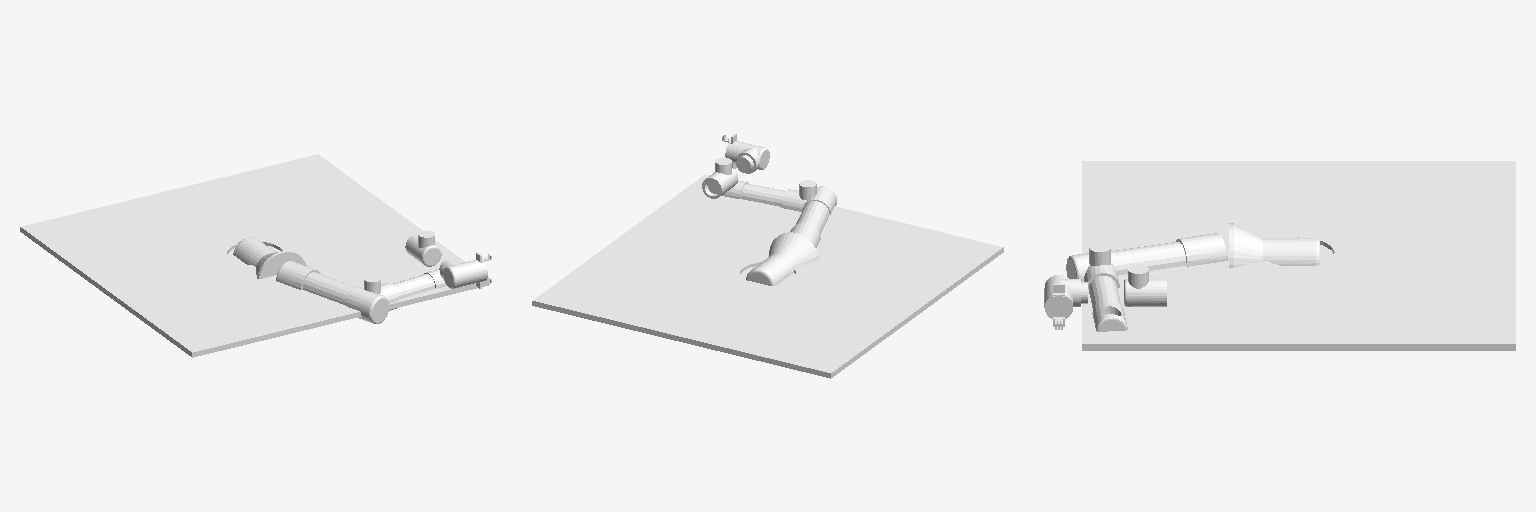
URDF robot description (myarm):
<robot
  name="myarm">
  <link
    name="base_link">
    <inertial>
      <origin
        xyz="-3.511E-17 -2.0937E-16 0.024867"
        rpy="0 0 0" />
      <mass
        value="444.11" />
      <inertia
        ixx="337.5"
        ixy="3.6082E-14"
        ixz="7.5848E-18"
        iyy="337.5"
        iyz="7.0622E-16"
        izz="674.82" />
    </inertial>
    <visual>
      <origin
        xyz="0 0 0"
        rpy="0 0 0" />
      <geometry>
        <mesh
          filename="package://marm_description/meshes/base_link.STL" />
      </geometry>
      <material
        name="">
        <color
          rgba="1 1 1 1" />
      </material>
    </visual>
    <collision>
      <origin
        xyz="0 0 0"
        rpy="0 0 0" />
      <geometry>
        <mesh
          filename="package://marm_description/meshes/base_link.STL" />
      </geometry>
    </collision>
  </link>
  <link
    name="link1">
    <inertial>
      <origin
        xyz="3.491E-07 0.0028335 0.01492"
        rpy="0 0 0" />
      <mass
        value="57.966" />
      <inertia
        ixx="2.5483"
        ixy="9.0628E-07"
        ixz="-1.5304E-06"
        iyy="2.5639"
        iyz="-0.04354"
        izz="1.0444" />
    </inertial>
    <visual>
      <origin
        xyz="0 0 0"
        rpy="0 0 0" />
      <geometry>
        <mesh
          filename="package://marm_description/meshes/link1.STL" />
      </geometry>
      <material
        name="">
        <color
          rgba="1 1 1 1" />
      </material>
    </visual>
    <collision>
      <origin
        xyz="0 0 0"
        rpy="0 0 0" />
      <geometry>
        <mesh
          filename="package://marm_description/meshes/link1.STL" />
      </geometry>
    </collision>
  </link>
  <joint
    name="joint1"
    type="revolute">
    <origin
      xyz="0 -0.25 0"
      rpy="-1.5708 -1.2246E-16 3.1416" />
    <parent
      link="base_link" />
    <child
      link="link1" />
    <axis
      xyz="0 0 0" />
    <limit
      effort="0"
      velocity="0" />
  </joint>
  <link
    name="link2">
    <inertial>
      <origin
        xyz="-0.23594 0.40746 -3.7574E-08"
        rpy="0 0 0" />
      <mass
        value="57.425" />
      <inertia
        ixx="6.4378"
        ixy="0.19841"
        ixz="-9.9286E-07"
        iyy="0.53245"
        iyz="2.3077E-06"
        izz="6.4921" />
    </inertial>
    <visual>
      <origin
        xyz="0 0 0"
        rpy="0 0 0" />
      <geometry>
        <mesh
          filename="package://marm_description/meshes/link2.STL" />
      </geometry>
      <material
        name="">
        <color
          rgba="1 1 1 1" />
      </material>
    </visual>
    <collision>
      <origin
        xyz="0 0 0"
        rpy="0 0 0" />
      <geometry>
        <mesh
          filename="package://marm_description/meshes/link2.STL" />
      </geometry>
    </collision>
  </link>
  <joint
    name="joint2"
    type="revolute">
    <origin
      xyz="0 -0.05 0.28"
      rpy="1.2415 -2.5305E-16 1.5708" />
    <parent
      link="link1" />
    <child
      link="link2" />
    <axis
      xyz="-1 0 0" />
    <limit
      effort="0"
      velocity="0" />
  </joint>
  <link
    name="link3">
    <inertial>
      <origin
        xyz="-0.023731 0.35093 -3.9485E-09"
        rpy="0 0 0" />
      <mass
        value="38.36" />
      <inertia
        ixx="3.5596"
        ixy="0.1423"
        ixz="-1.1416E-06"
        iyy="0.27636"
        iyz="2.9576E-07"
        izz="3.6045" />
    </inertial>
    <visual>
      <origin
        xyz="0 0 0"
        rpy="0 0 0" />
      <geometry>
        <mesh
          filename="package://marm_description/meshes/link3.STL" />
      </geometry>
      <material
        name="">
        <color
          rgba="1 1 1 1" />
      </material>
    </visual>
    <collision>
      <origin
        xyz="0 0 0"
        rpy="0 0 0" />
      <geometry>
        <mesh
          filename="package://marm_description/meshes/link3.STL" />
      </geometry>
    </collision>
  </link>
  <joint
    name="joint3"
    type="revolute">
    <origin
      xyz="0 0.9 0"
      rpy="-1.8083 -1.0811E-16 3.1416" />
    <parent
      link="link2" />
    <child
      link="link3" />
    <axis
      xyz="1 0 0" />
    <limit
      effort="0"
      velocity="0" />
  </joint>
  <link
    name="link4">
    <inertial>
      <origin
        xyz="8.6704E-09 0.13203 0.020954"
        rpy="0 0 0" />
      <mass
        value="10.038" />
      <inertia
        ixx="0.10563"
        ixy="1.3415E-07"
        ixz="4.5282E-08"
        iyy="0.071748"
        iyz="0.0067371"
        izz="0.082807" />
    </inertial>
    <visual>
      <origin
        xyz="0 0 0"
        rpy="0 0 0" />
      <geometry>
        <mesh
          filename="package://marm_description/meshes/link4.STL" />
      </geometry>
      <material
        name="">
        <color
          rgba="1 1 1 1" />
      </material>
    </visual>
    <collision>
      <origin
        xyz="0 0 0"
        rpy="0 0 0" />
      <geometry>
        <mesh
          filename="package://marm_description/meshes/link4.STL" />
      </geometry>
    </collision>
  </link>
  <joint
    name="joint4"
    type="revolute">
    <origin
      xyz="0.2 0.80917 0.099579"
      rpy="-1.5708 0.091783 1.5708" />
    <parent
      link="link3" />
    <child
      link="link4" />
    <axis
      xyz="0 0 0" />
    <limit
      effort="0"
      velocity="0" />
  </joint>
  <link
    name="link5">
    <inertial>
      <origin
        xyz="1.1124E-08 0.10421 0.041487"
        rpy="0 0 0" />
      <mass
        value="9.417" />
      <inertia
        ixx="0.087332"
        ixy="2.1223E-08"
        ixz="-5.3766E-09"
        iyy="0.08101"
        iyz="0.001687"
        izz="0.055716" />
    </inertial>
    <visual>
      <origin
        xyz="0 0 0"
        rpy="0 0 0" />
      <geometry>
        <mesh
          filename="package://marm_description/meshes/link5.STL" />
      </geometry>
      <material
        name="">
        <color
          rgba="1 1 1 1" />
      </material>
    </visual>
    <collision>
      <origin
        xyz="0 0 0"
        rpy="0 0 0" />
      <geometry>
        <mesh
          filename="package://marm_description/meshes/link5.STL" />
      </geometry>
    </collision>
  </link>
  <joint
    name="joint5"
    type="revolute">
    <origin
      xyz="-0.1 0.45 0"
      rpy="1.5708 1.5708 0" />
    <parent
      link="link4" />
    <child
      link="link5" />
    <axis
      xyz="0 0 0" />
    <limit
      effort="0"
      velocity="0" />
  </joint>
  <link
    name="link6">
    <inertial>
      <origin
        xyz="0 0.076204 0"
        rpy="0 0 0" />
      <mass
        value="3.6844" />
      <inertia
        ixx="0.015237"
        ixy="-7.1495E-20"
        ixz="-2.176E-19"
        iyy="0.016852"
        iyz="1.0801E-18"
        izz="0.013643" />
    </inertial>
    <visual>
      <origin
        xyz="0 0 0"
        rpy="0 0 0" />
      <geometry>
        <mesh
          filename="package://marm_description/meshes/link6.STL" />
      </geometry>
      <material
        name="">
        <color
          rgba="1 1 1 1" />
      </material>
    </visual>
    <collision>
      <origin
        xyz="0 0 0"
        rpy="0 0 0" />
      <geometry>
        <mesh
          filename="package://marm_description/meshes/link6.STL" />
      </geometry>
    </collision>
  </link>
  <joint
    name="joint6"
    type="revolute">
    <origin
      xyz="0 0.19 0"
      rpy="3.1416 0 3.1416" />
    <parent
      link="link5" />
    <child
      link="link6" />
    <axis
      xyz="0 0 0" />
    <limit
      effort="0"
      velocity="0" />
  </joint>
  <link
    name="gripper_finger_link1">
    <inertial>
      <origin
        xyz="-0.0045948 2.2204E-16 0.018054"
        rpy="0 0 0" />
      <mass
        value="0.1382" />
      <inertia
        ixx="9.1673E-05"
        ixy="1.3114E-20"
        ixz="2.4411E-05"
        iyy="0.00022117"
        iyz="2.2849E-20"
        izz="0.00025212" />
    </inertial>
    <visual>
      <origin
        xyz="0 0 0"
        rpy="0 0 0" />
      <geometry>
        <mesh
          filename="package://marm_description/meshes/gripper_finger_link1.STL" />
      </geometry>
      <material
        name="">
        <color
          rgba="1 1 1 1" />
      </material>
    </visual>
    <collision>
      <origin
        xyz="0 0 0"
        rpy="0 0 0" />
      <geometry>
        <mesh
          filename="package://marm_description/meshes/gripper_finger_link1.STL" />
      </geometry>
    </collision>
  </link>
  <joint
    name="finger_joint1"
    type="prismatic">
    <origin
      xyz="-0.09 0.15 0"
      rpy="1.5708 0 1.5708" />
    <parent
      link="link6" />
    <child
      link="gripper_finger_link1" />
    <axis
      xyz="0 0 0" />
    <limit
      effort="0"
      velocity="0" />
  </joint>
  <link
    name="gripper_finger_link2">
    <inertial>
      <origin
        xyz="-0.0045948 0 0.018054"
        rpy="0 0 0" />
      <mass
        value="0.1382" />
      <inertia
        ixx="9.1673E-05"
        ixy="2.9871E-20"
        ixz="2.4411E-05"
        iyy="0.00022117"
        iyz="4.1677E-21"
        izz="0.00025212" />
    </inertial>
    <visual>
      <origin
        xyz="0 0 0"
        rpy="0 0 0" />
      <geometry>
        <mesh
          filename="package://marm_description/meshes/gripper_finger_link2.STL" />
      </geometry>
      <material
        name="">
        <color
          rgba="1 1 1 1" />
      </material>
    </visual>
    <collision>
      <origin
        xyz="0 0 0"
        rpy="0 0 0" />
      <geometry>
        <mesh
          filename="package://marm_description/meshes/gripper_finger_link2.STL" />
      </geometry>
    </collision>
  </link>
  <joint
    name="finger_joint2"
    type="fixed">
    <origin
      xyz="0.09 0.15 0"
      rpy="-1.5708 0 1.5708" />
    <parent
      link="link6" />
    <child
      link="gripper_finger_link2" />
    <axis
      xyz="0 0 0" />
  </joint>
</robot>

--- Facts derived from the render (not from the file) ---
Views: 3 orthographic renders of the robot side by side, from view 1: azimuth 30°, elevation 25°; view 2: azimuth 150°, elevation 25°; view 3: azimuth 270°, elevation 25°.
Robot: myarm — 9 links, 8 joints (6 revolute, 1 prismatic, 1 fixed); root link base_link; default pose: all joints at 0.
Visible links, largest first — view 1: base_link, link2, link1, link3, link4, link5; view 2: base_link, link1, link3, link2, link4, link5; view 3: base_link, link2, link1, link3, link4, link5, link6.
Link boxes in pixels (<box>): base_link: <box>20,154,489,357</box>; link2: <box>276,261,388,323</box>; link1: <box>233,237,306,278</box>; link3: <box>364,269,446,310</box>; link4: <box>405,230,441,266</box>; link5: <box>439,259,477,288</box>; base_link: <box>532,175,1003,378</box>; link1: <box>746,232,819,285</box>; link3: <box>722,180,816,211</box>; link2: <box>790,186,836,247</box>; link4: <box>702,158,737,198</box>; link5: <box>735,142,769,173</box>; base_link: <box>1082,161,1515,350</box>; link2: <box>1066,233,1227,281</box>; link1: <box>1229,223,1319,267</box>; link3: <box>1084,243,1127,331</box>; link4: <box>1124,265,1166,306</box>; link5: <box>1044,275,1087,306</box>; link6: <box>1044,290,1072,319</box>.
Size in the robot's own frame: 3 by 3.26 by 0.6797 metres.
9 mesh visuals loaded from 9 distinct referenced files (9 binary STL).